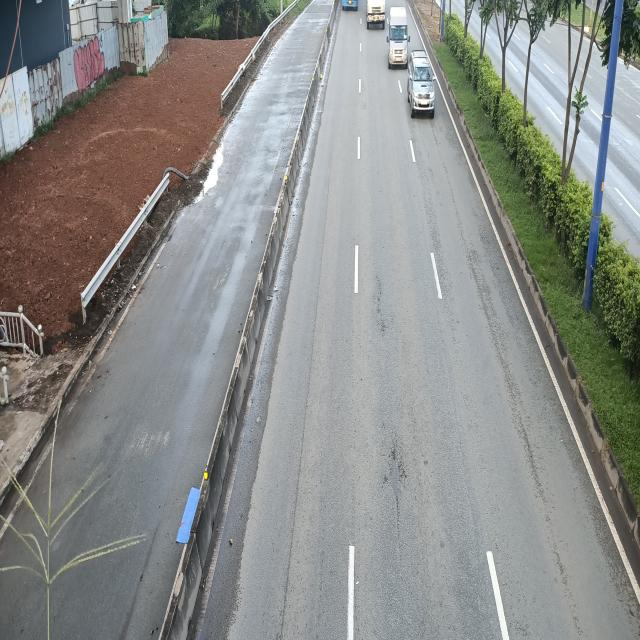car: (407, 51, 436, 115)
van: (386, 2, 410, 70)
